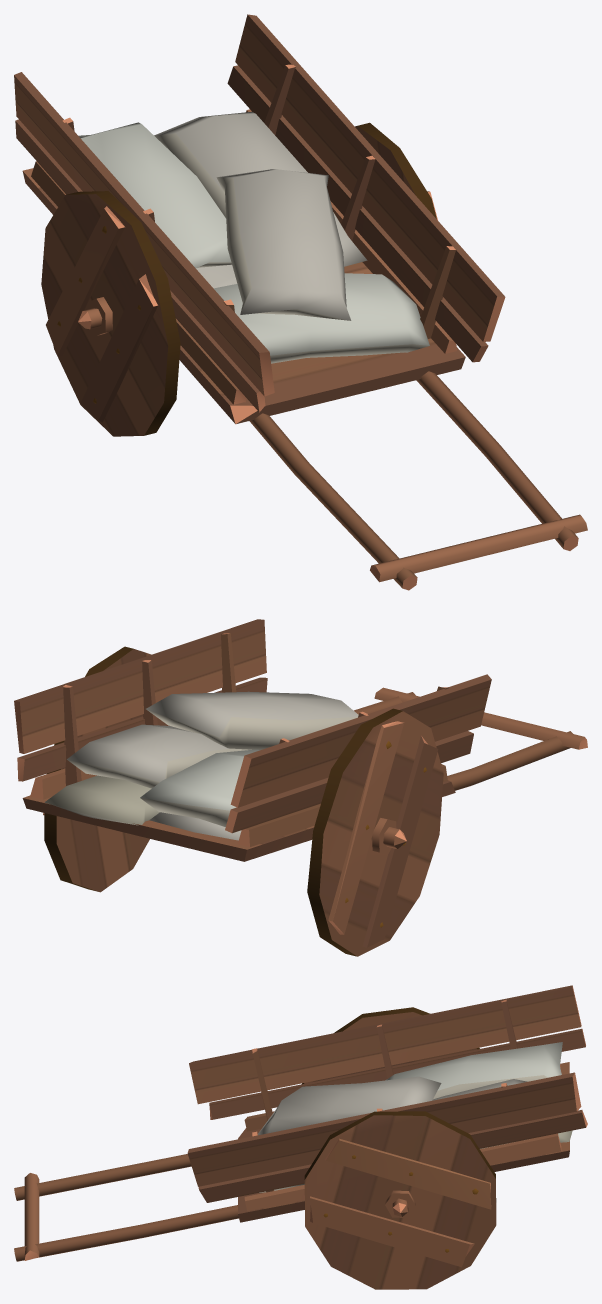
File: scene_R3zaYnbkLA.glb
3 views of the same model, one above another, from view 1: azimuth 30°, elevation 25°; view 2: azimuth 150°, elevation 25°; view 3: azimuth 270°, elevation 25° (orthographic). The views are drawn at different scales.
Parts seen in each view (by area): view 1: Cart-ver2; view 2: Cart-ver2; view 3: Cart-ver2.
Part boxes in pixels (bbox=[...]): Cart-ver2: bbox=[14, 14, 587, 590]; Cart-ver2: bbox=[14, 619, 587, 956]; Cart-ver2: bbox=[14, 985, 587, 1289].
Bounding box in the file's own units: 1.72 × 1.32 × 3.29.
1 material, 1 textured.
